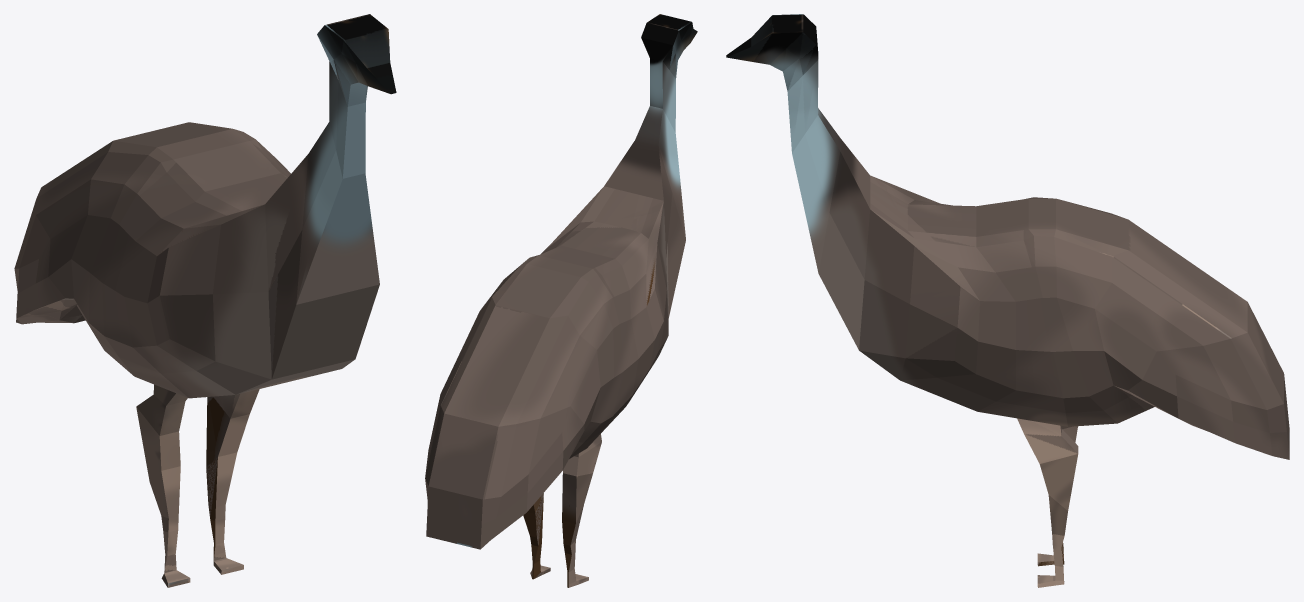
The model's file is emu 1.fbx.
3 views of the same model, side by side, from view 1: azimuth 30°, elevation 25°; view 2: azimuth 150°, elevation 25°; view 3: azimuth 270°, elevation 25° (orthographic). The views are drawn at different scales.
Visible parts, largest first — view 1: Emu; view 2: Emu; view 3: Emu.
Boxes of the visible parts, box(x1,y1,x2,y2) form: Emu: box(14, 14, 396, 587); Emu: box(425, 14, 697, 587); Emu: box(726, 14, 1289, 587).
Size of the model in its own units: 177 by 595 by 551.
